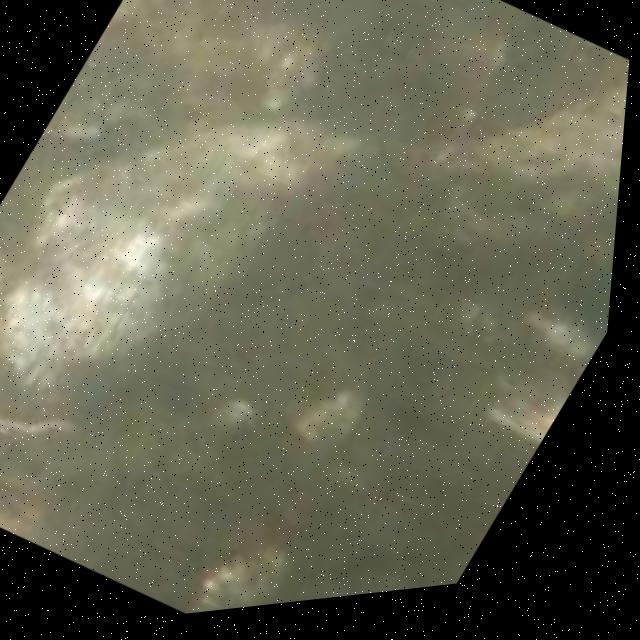Oyster-Indeterminate: (2, 119, 374, 394), (0, 412, 199, 583), (430, 92, 627, 257)
